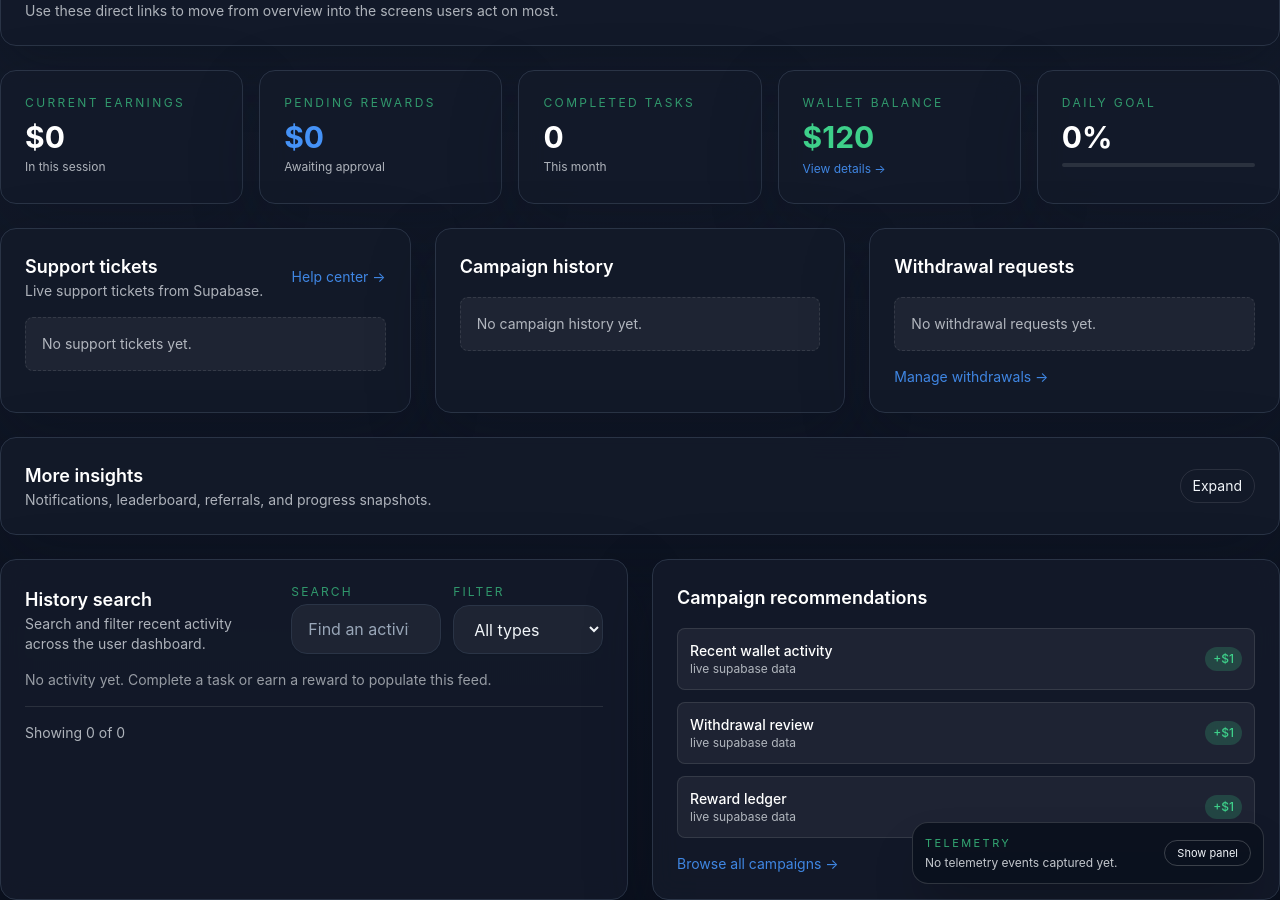
Test: DashboardPage › renders the dashboard summaries and controls
The image size is (1280, 900).
(page scrolled)
Expected: the heading "More insights" is shown, x1=25 y1=465 x2=143 y2=486
Click the button "Expand": (1217, 486) x1=1180 y1=469 x2=1255 y2=503
(page scrolled)
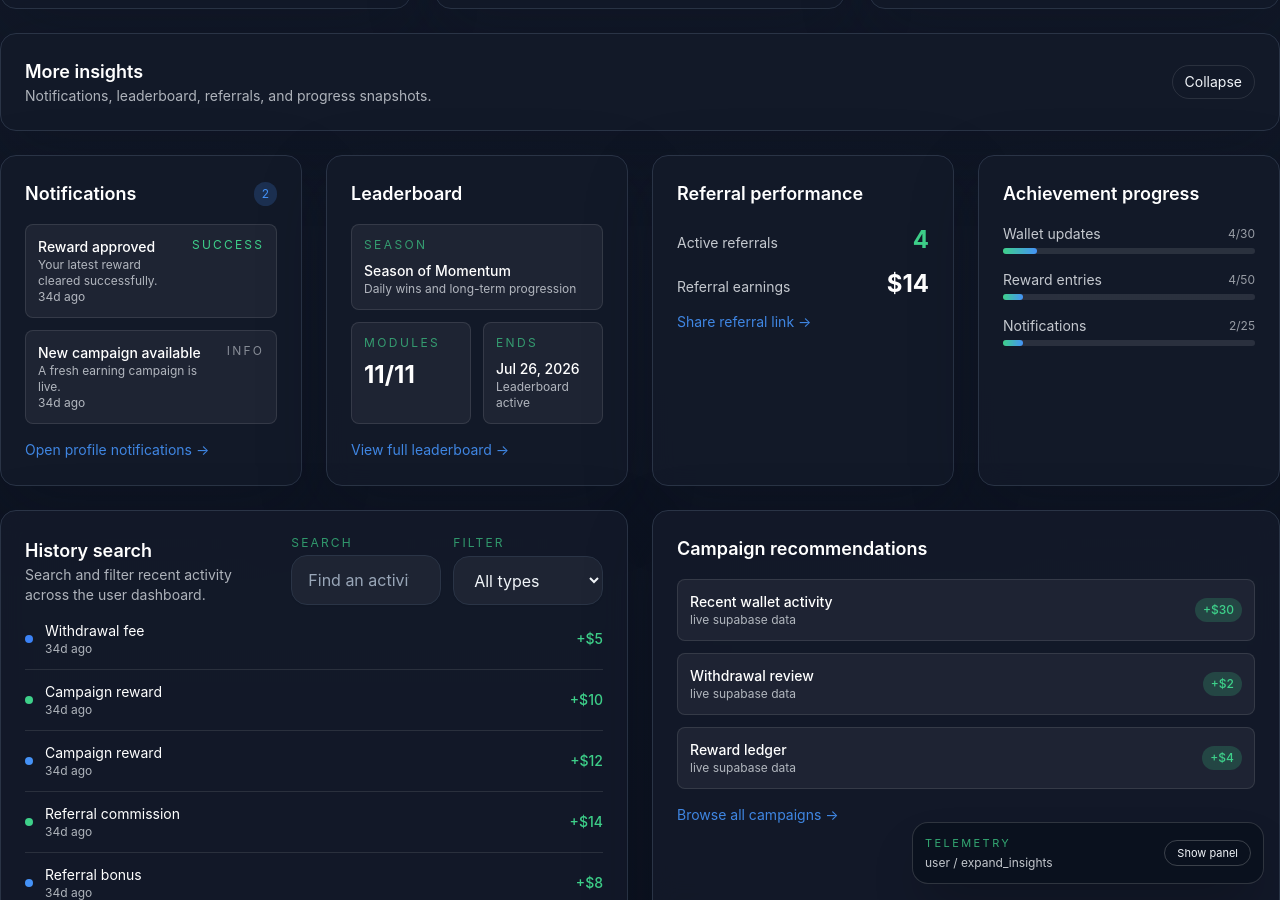
Expected: the heading "Leaderboard" is shown, x1=351 y1=183 x2=462 y2=204
Expected: the text "Season of Momentum" is shown, x1=364 y1=262 x2=511 y2=279
Expected: the text "Leaderboard active" is shown, x1=496 y1=379 x2=569 y2=410
